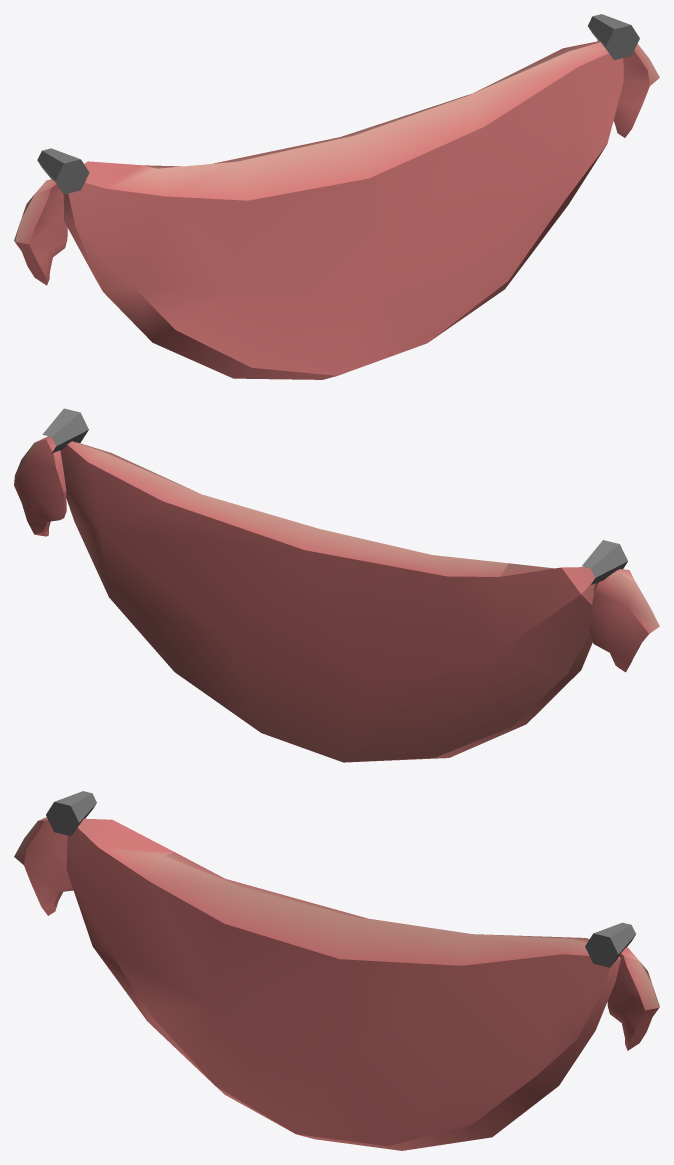
File: BannerRed.glb
The picture shows the model from 3 angles, top to bottom: view 1: azimuth 30°, elevation 25°; view 2: azimuth 150°, elevation 25°; view 3: azimuth 330°, elevation 25°; orthographic projection. The views are drawn at different scales.
Visible parts, largest first — view 1: BannerRed; view 2: BannerRed; view 3: BannerRed.
Boxes of the visible parts, bbox=[...] form: BannerRed: bbox=[14, 14, 659, 379]; BannerRed: bbox=[14, 408, 659, 762]; BannerRed: bbox=[14, 791, 659, 1150].
Bounding box in the file's own units: 1.87 × 0.775 × 0.2046.
